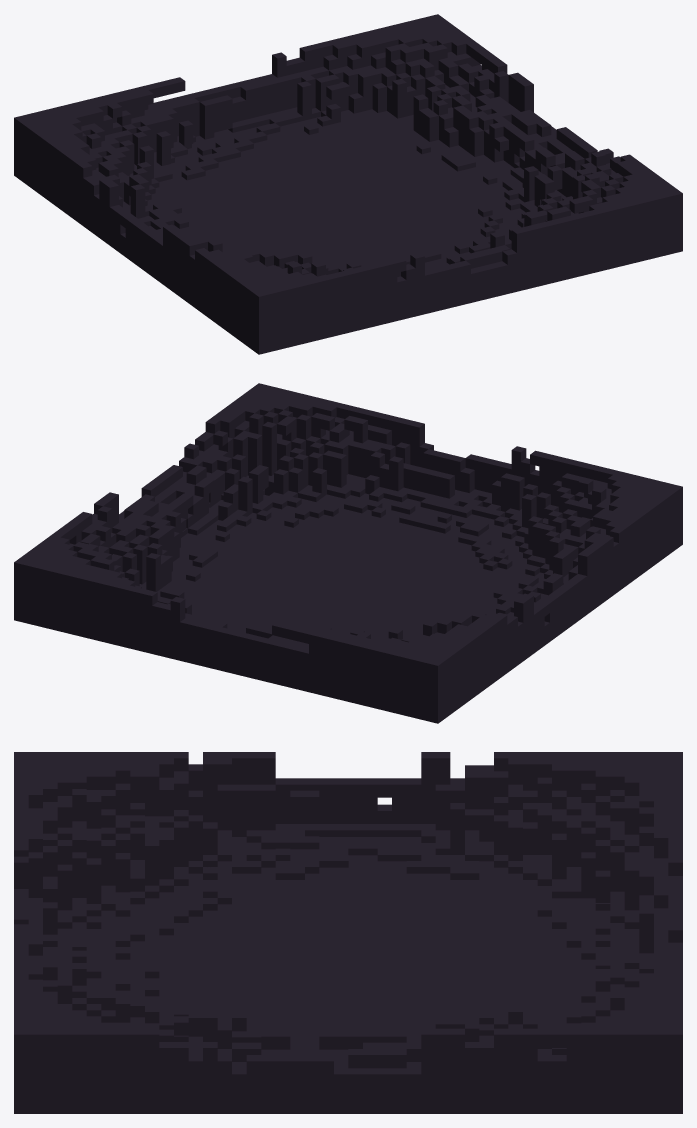
The model's file is Ilha Muuuito Grande - Miolo.obj.
The picture shows the model from 3 angles, top to bottom: view 1: azimuth 30°, elevation 25°; view 2: azimuth 150°, elevation 25°; view 3: azimuth 270°, elevation 25°; orthographic projection. The views are drawn at different scales.
Size of the model in its own units: 9.2 by 1.2 by 9.2.
Materials: 1 (1 with a texture image).
